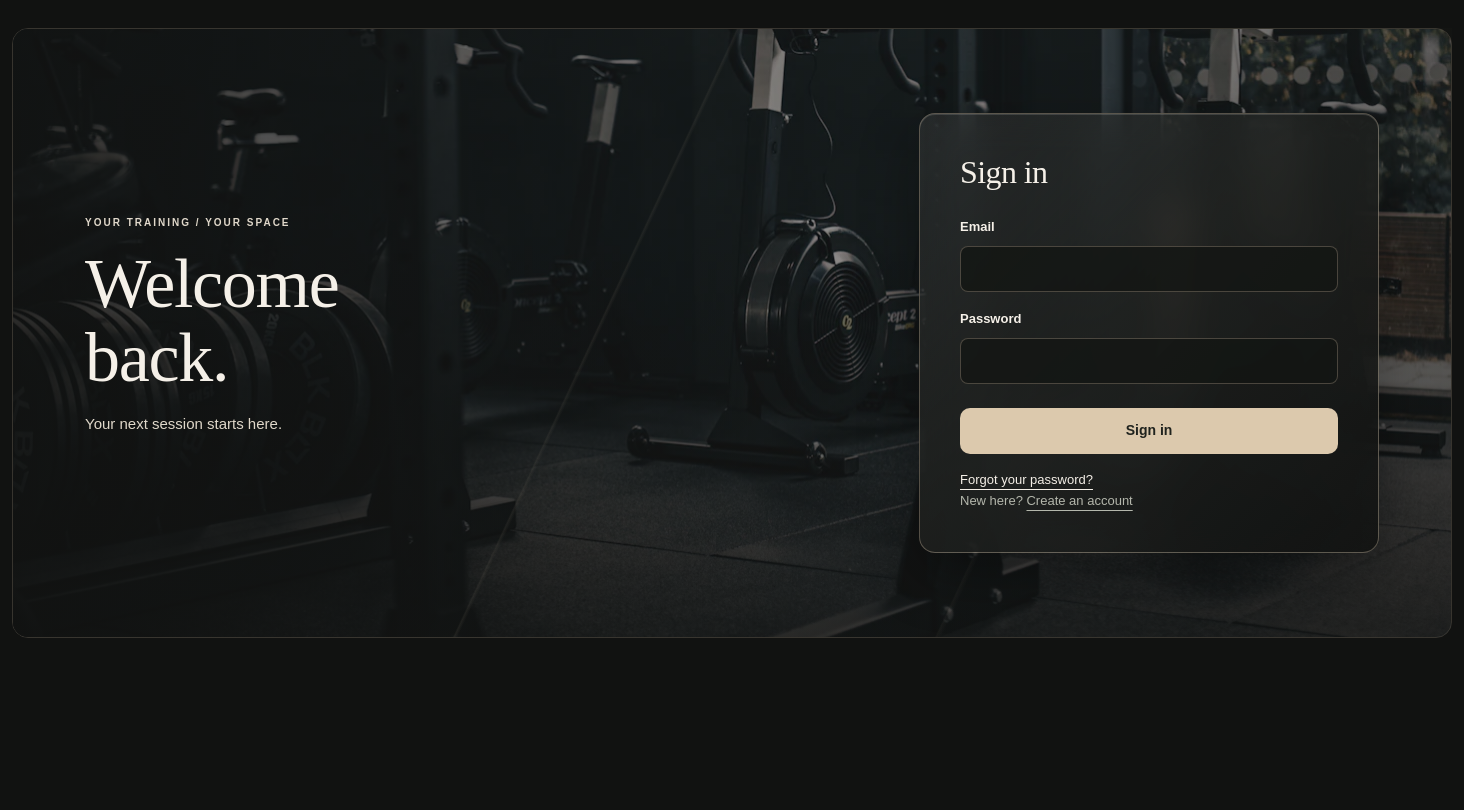
network failures are recoverable rather than successful sign-ins
The width and height of the screenshot is (1464, 810).
Type "example@example.test" into the field labelled "Email" at (1149, 269), box [960,246,1338,292]
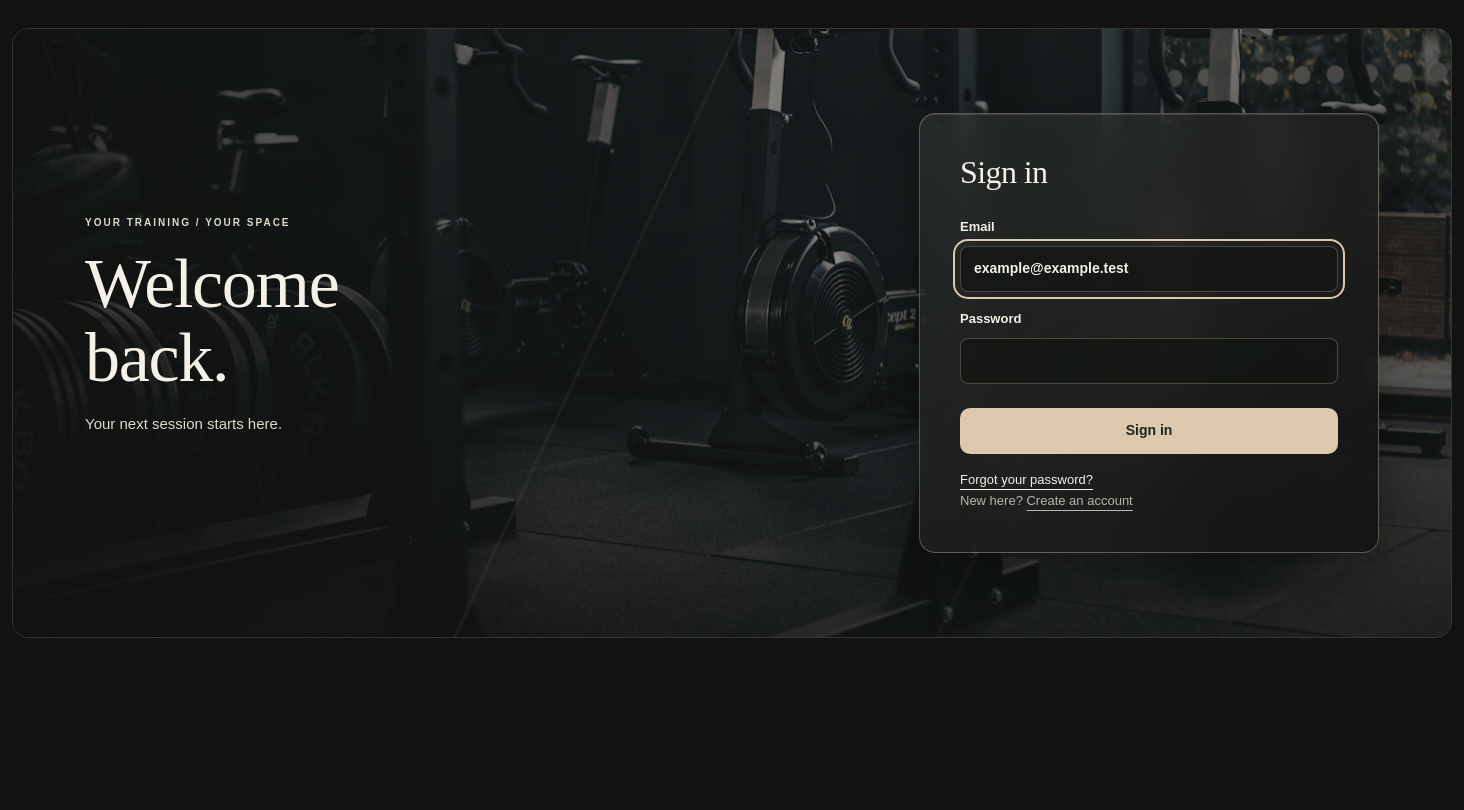
Type "synthetic-test-only-password" into the password field labelled "Password" at (1149, 361), box [960,338,1338,384]
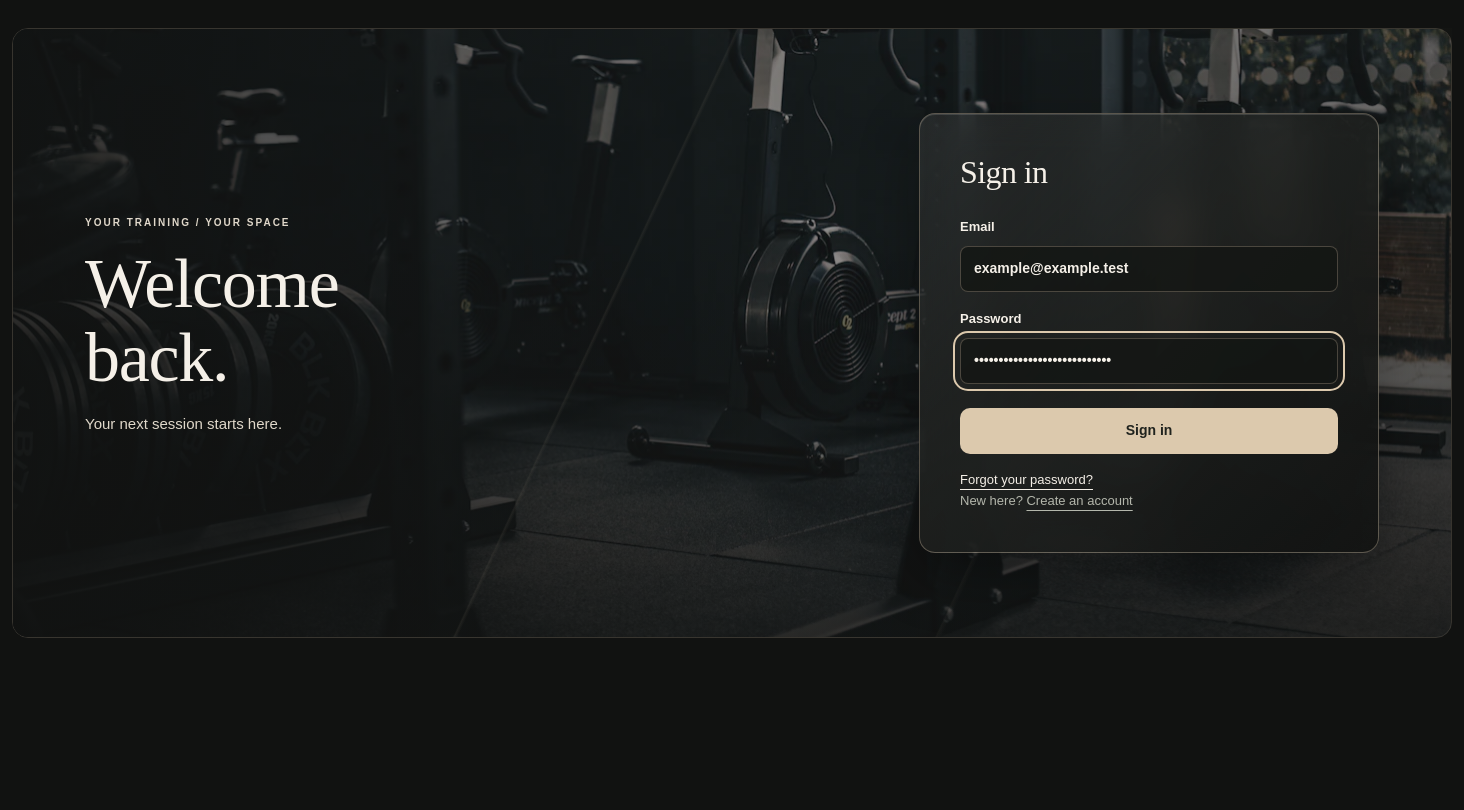
Click the button "Sign in" at (1149, 431), box [960,408,1338,454]
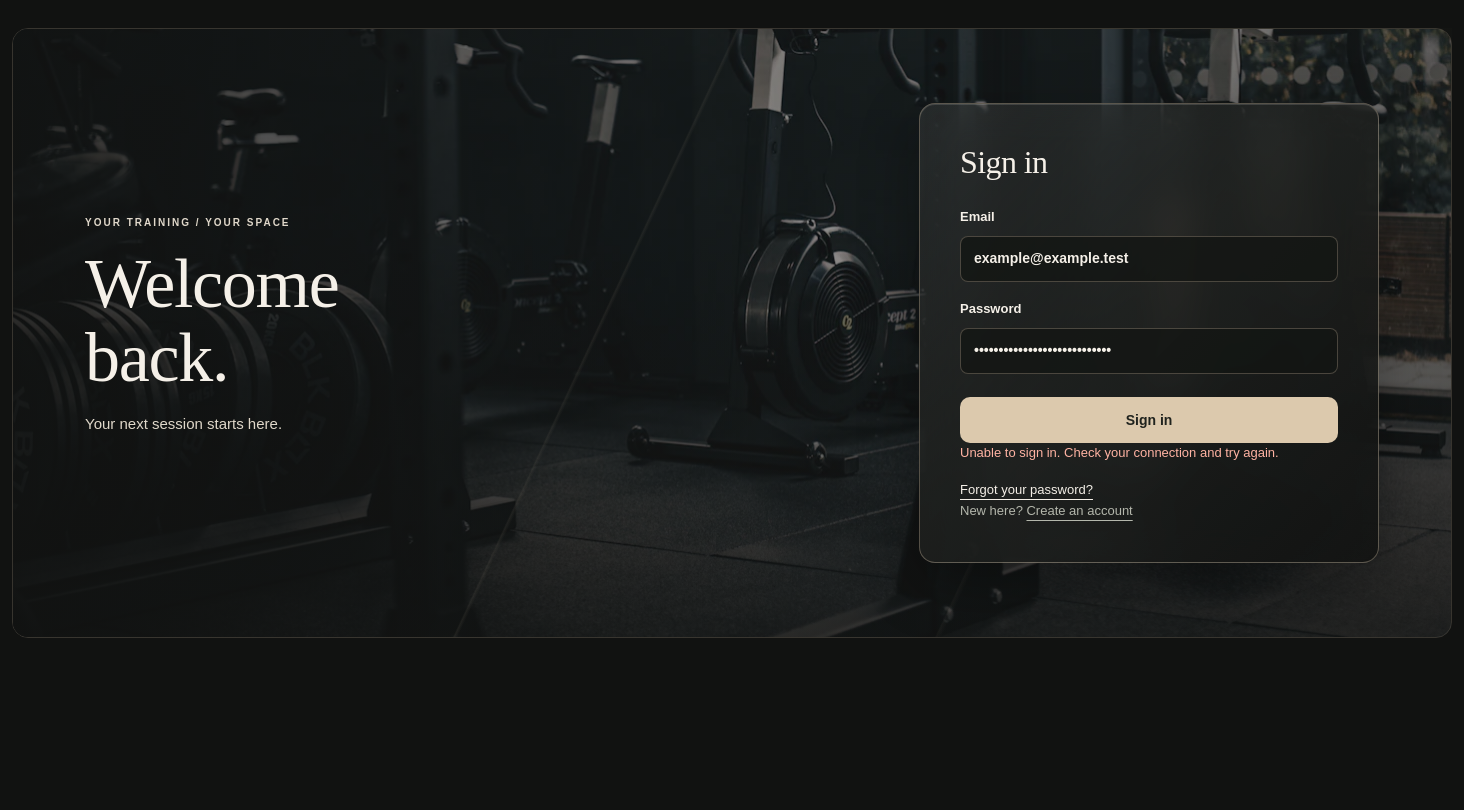
Now the message shows "Check your connection", box [960,445,1279,460]
